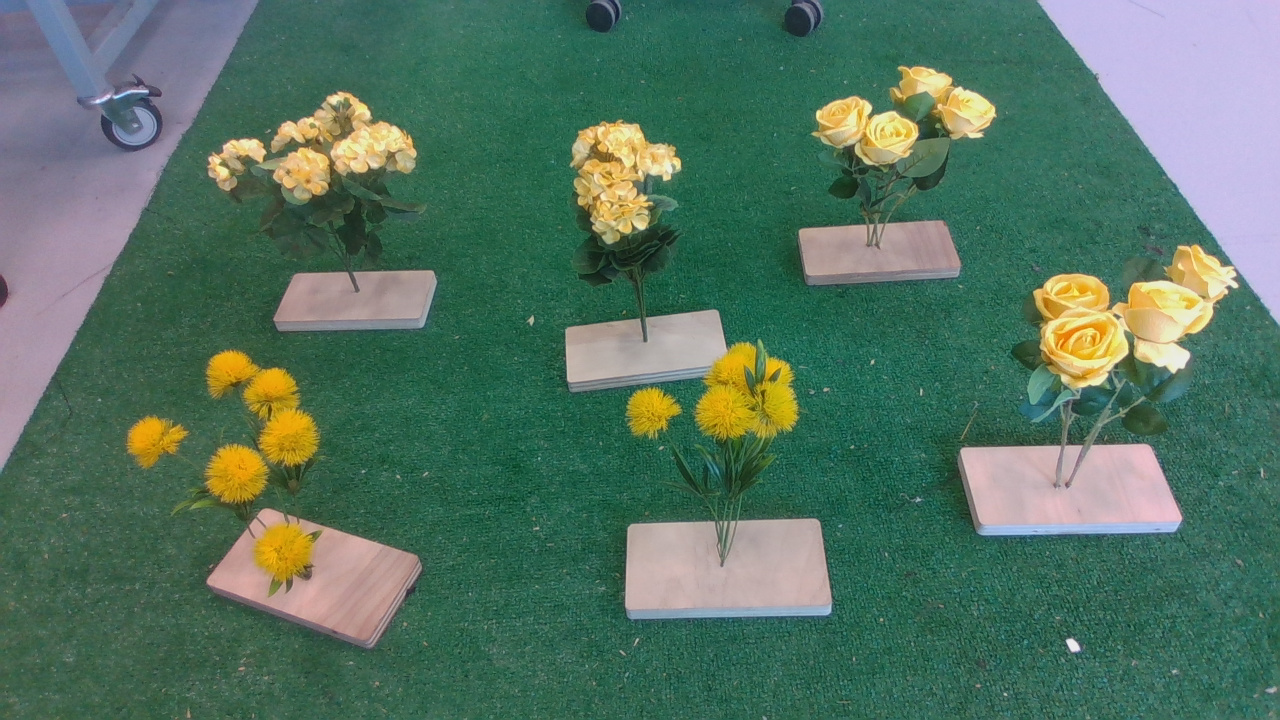dandelion: (109, 350, 333, 605), (626, 337, 806, 514)
geranium: (201, 97, 437, 266), (558, 117, 693, 295)
rose: (1004, 239, 1250, 449), (813, 66, 1008, 214)
